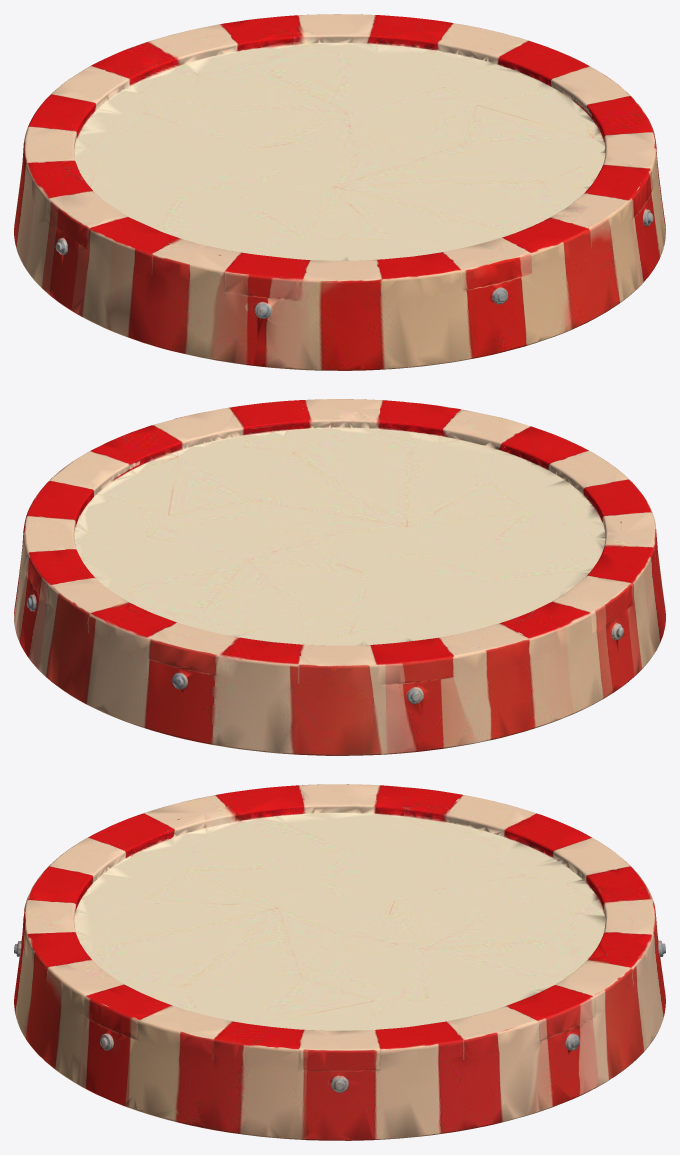
File: spinningTurntable.de875e59.glb
The picture shows the model from 3 angles, top to bottom: view 1: azimuth 30°, elevation 25°; view 2: azimuth 150°, elevation 25°; view 3: azimuth 270°, elevation 25°; orthographic projection.
Size of the model in its own units: 1.9 by 0.2809 by 1.9.
1 material, 1 textured.
